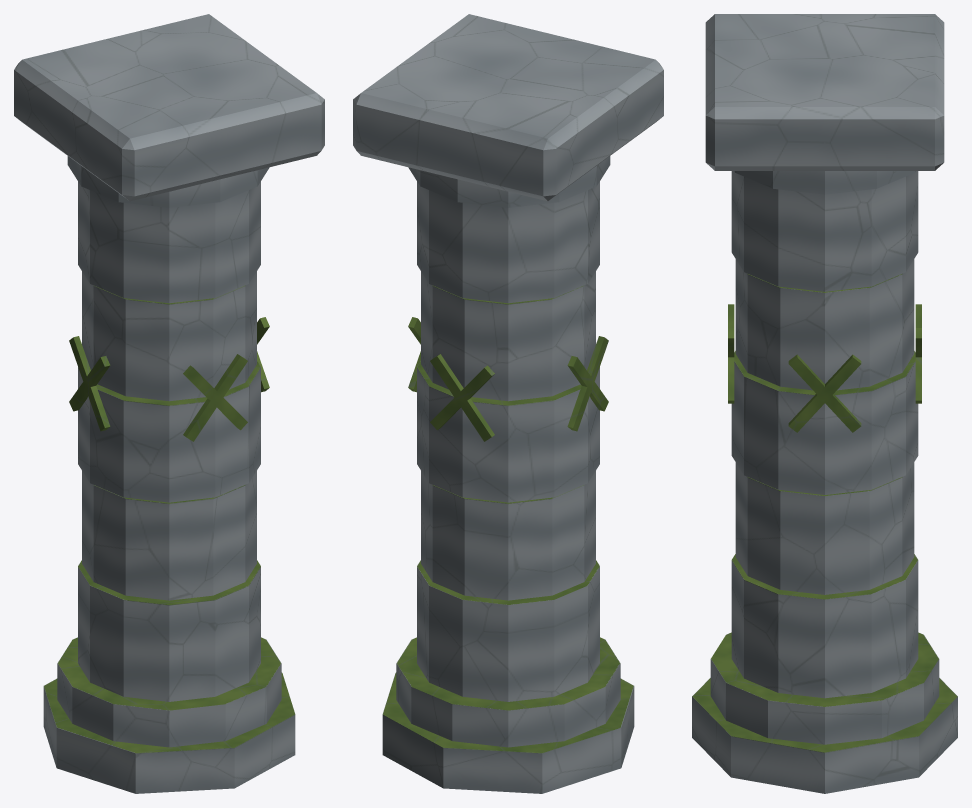
Rendered from stone_pillar.glb.
The picture shows the model from 3 angles, left to right: view 1: azimuth 30°, elevation 25°; view 2: azimuth 150°, elevation 25°; view 3: azimuth 270°, elevation 25°; orthographic projection.
Visible parts, largest first — view 1: stone_pillar_Mesh; view 2: stone_pillar_Mesh; view 3: stone_pillar_Mesh.
Boxes of the visible parts, <box> form: stone_pillar_Mesh: <box>14,14,324,793</box>; stone_pillar_Mesh: <box>353,14,663,793</box>; stone_pillar_Mesh: <box>692,14,957,793</box>.
Size of the model in its own units: 1.28 by 3.6 by 1.28.
Materials: 1 (1 with a texture image).
